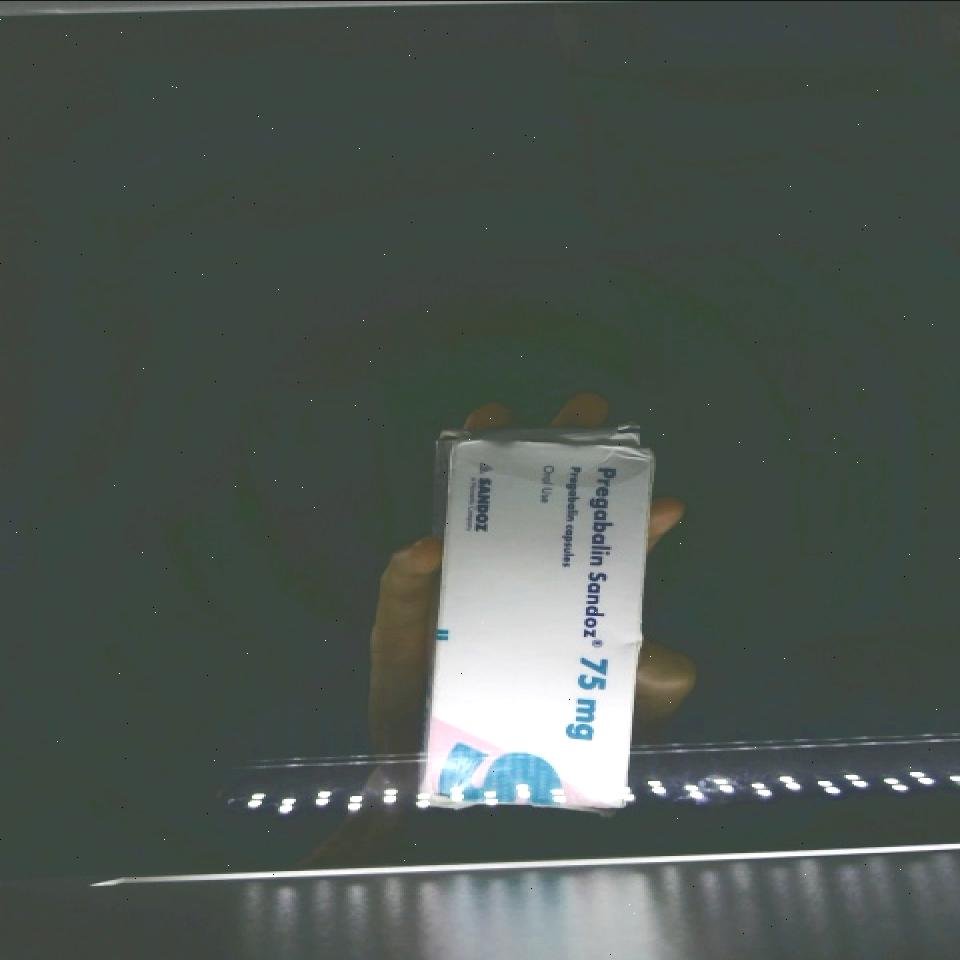medicine_box: (420, 433, 648, 818)
medicine_label_obb: (563, 448, 629, 651)
